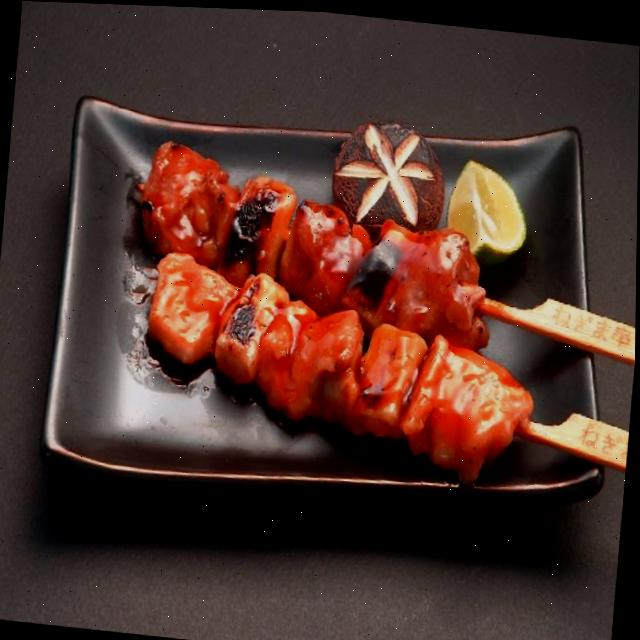烧串烤肉: (95, 141, 638, 502)
